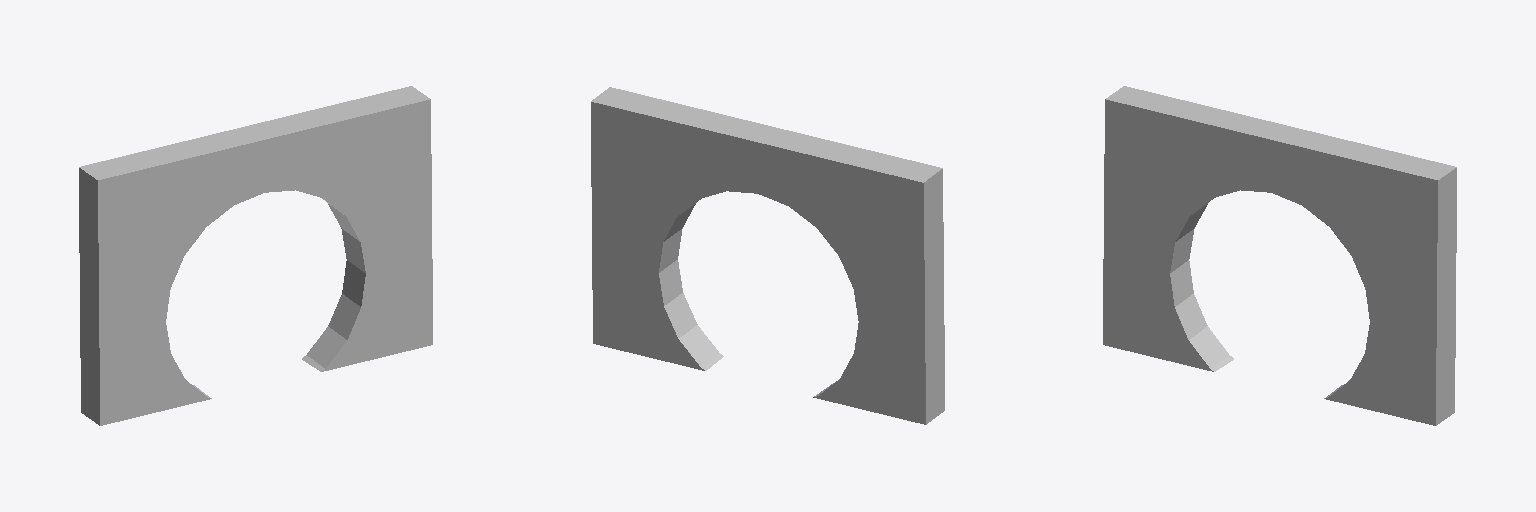
Rendered from tinker.obj.
The picture shows the model from 3 angles: view 1: azimuth 30°, elevation 25°; view 2: azimuth 150°, elevation 25°; view 3: azimuth 330°, elevation 25°; orthographic projection.
Parts seen in each view (by area): view 1: obj_0; view 2: obj_0; view 3: obj_0.
Part boxes in pixels (x1,y1,x2,y2): obj_0: (79,86,432,425); obj_0: (591,87,944,424); obj_0: (1103,86,1456,425).
Bounding box in the file's own units: 100 × 70.16 × 11.22.